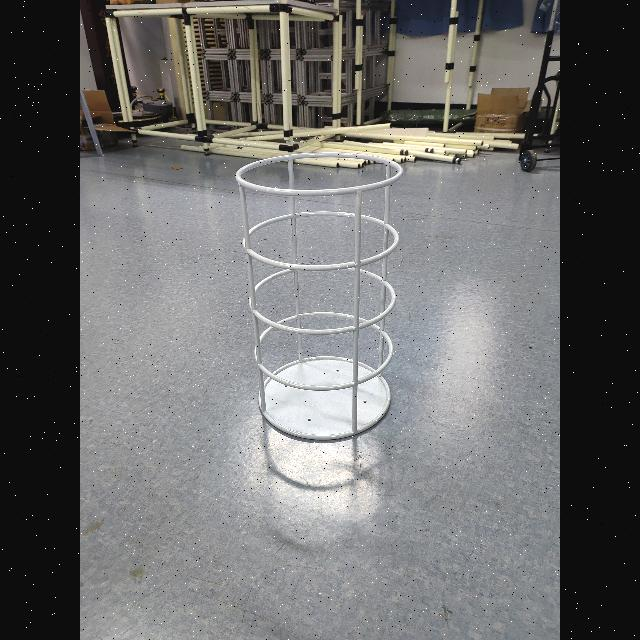S: (232, 150, 406, 444)
